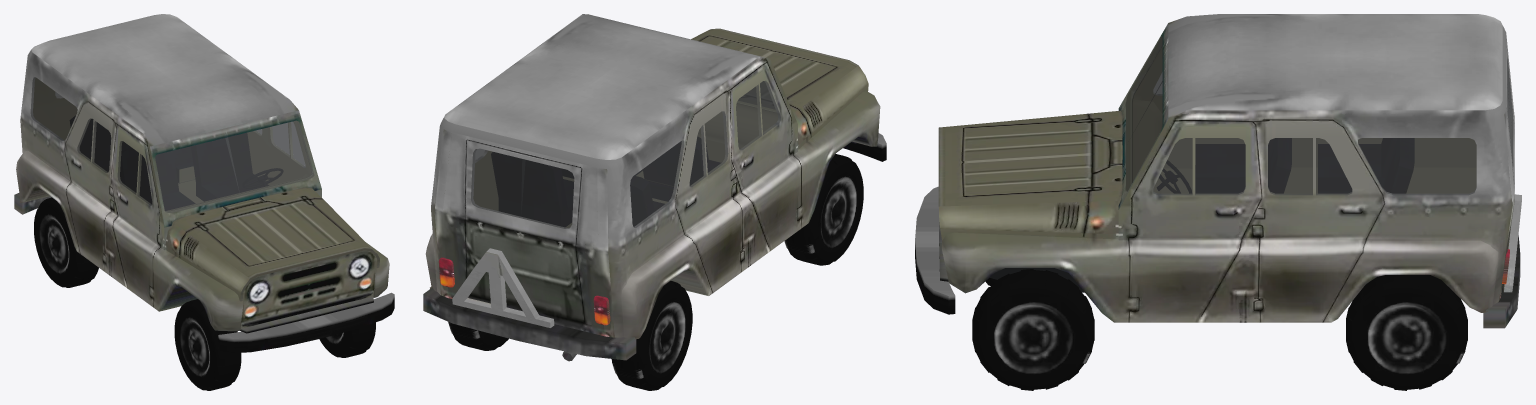
Rendered from uaz-469-70c869.glb.
3 views of the same model, side by side, from view 1: azimuth 30°, elevation 25°; view 2: azimuth 150°, elevation 25°; view 3: azimuth 270°, elevation 25° (orthographic). The views are drawn at different scales.
Parts seen in each view (by area): view 1: body, wheel-front-right, wheel-back-right, wheel-front-left; view 2: body, wheel-front-right, wheel-back-right, wheel-back-left; view 3: body, wheel-front-left, wheel-back-left.
Boxes of the visible parts, <box> form: body: <box>14,14,394,352</box>; wheel-front-right: <box>174,299,241,390</box>; wheel-back-right: <box>34,197,98,287</box>; wheel-front-left: <box>319,322,375,357</box>; body: <box>423,14,886,361</box>; wheel-front-right: <box>784,154,863,265</box>; wheel-back-right: <box>611,281,692,390</box>; wheel-back-left: <box>448,322,508,350</box>; body: <box>915,14,1521,328</box>; wheel-front-left: <box>972,269,1094,390</box>; wheel-back-left: <box>1346,275,1467,390</box>.
Size of the model in its own units: 1.83 by 2.15 by 4.13.
2 materials, 2 textured.
